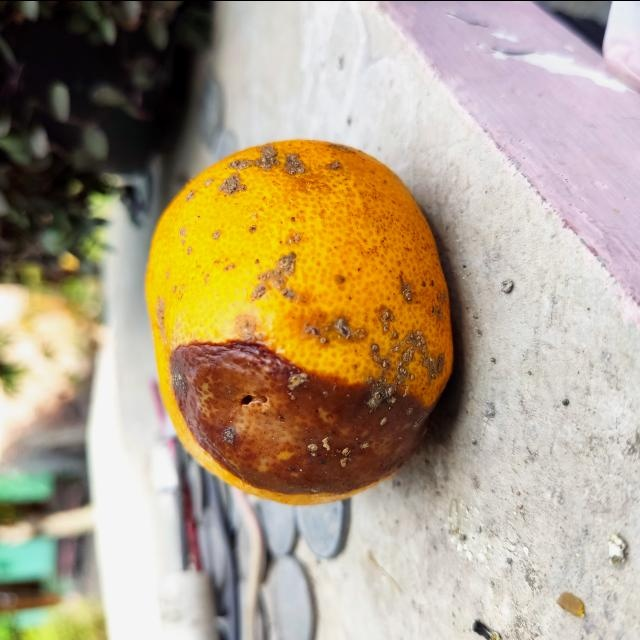agrume: (143, 137, 457, 507)
